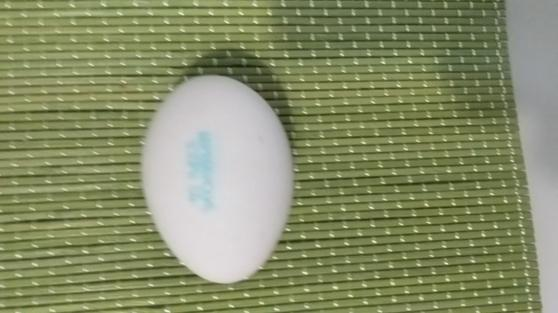egg: (141, 73, 296, 284)
